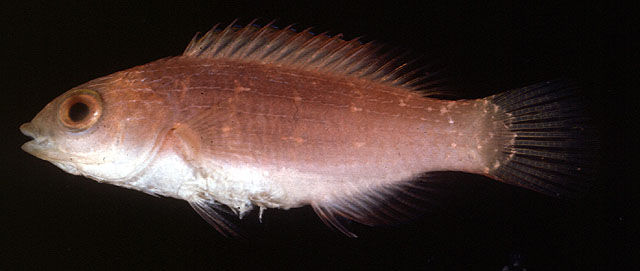fish: (20, 20, 566, 238)
